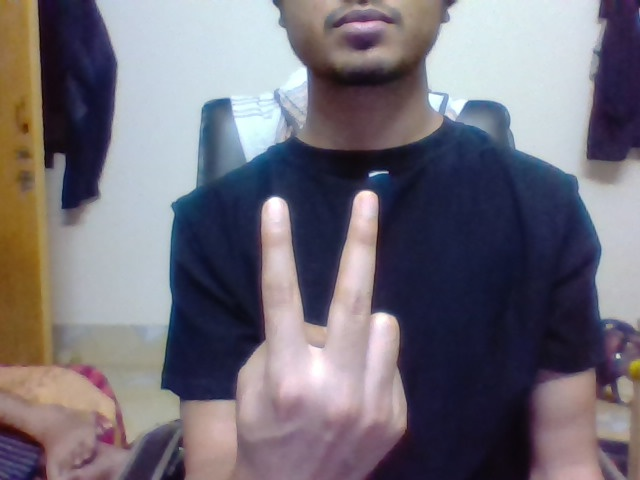V: (257, 186, 385, 337)
